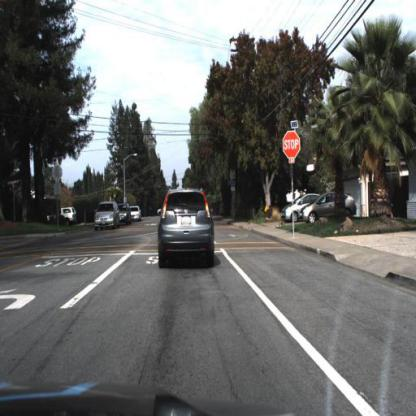car: (152, 175, 221, 286), (298, 188, 362, 228), (280, 192, 321, 224), (94, 197, 121, 235), (282, 196, 300, 227), (59, 201, 80, 227), (118, 198, 134, 229), (131, 201, 142, 222)
